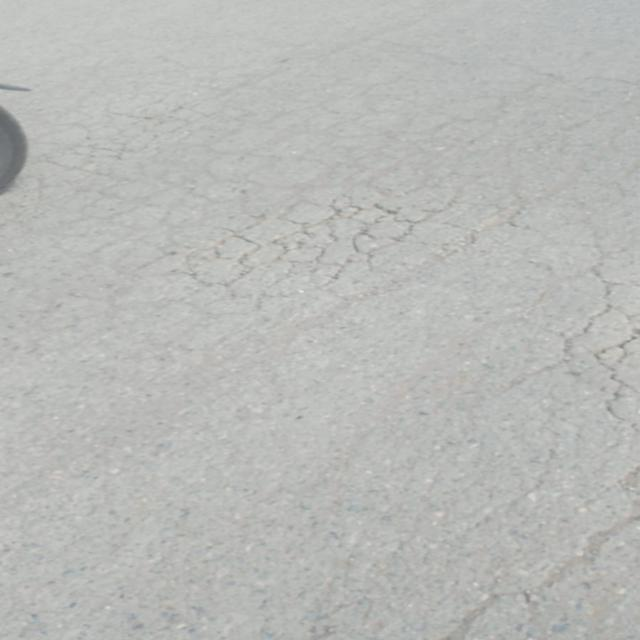Retak Buaya: (153, 191, 411, 321)
